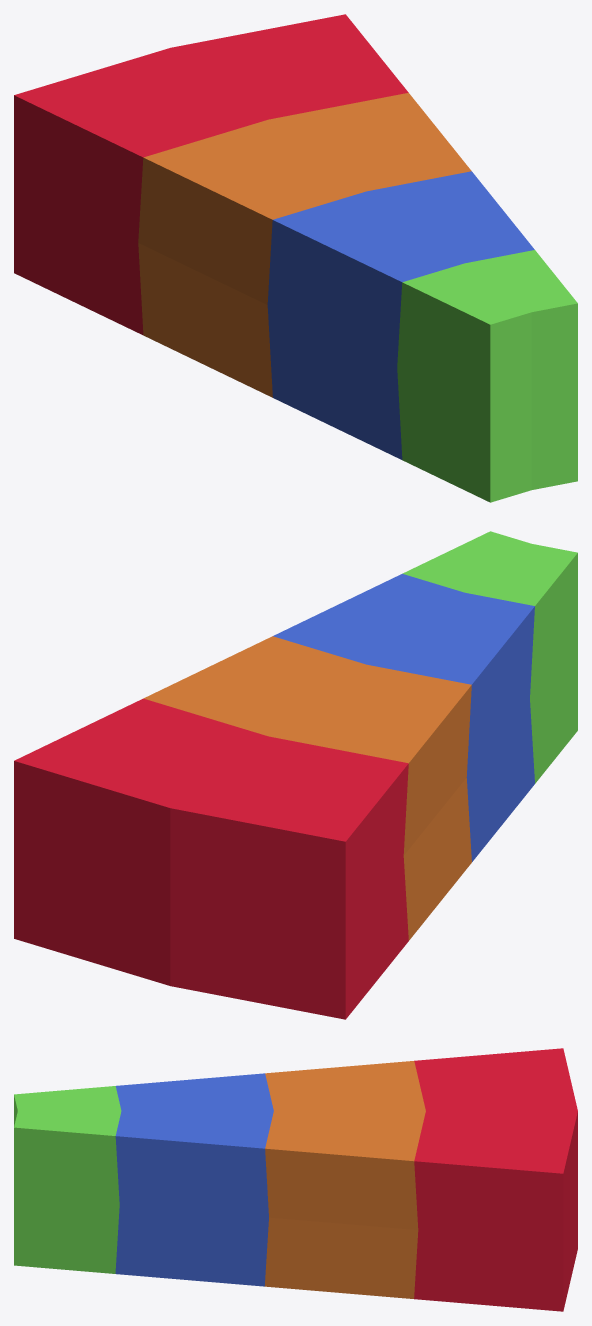
The model's file is sss.fbx.
The picture shows the model from 3 angles, top to bottom: view 1: azimuth 30°, elevation 25°; view 2: azimuth 150°, elevation 25°; view 3: azimuth 270°, elevation 25°; orthographic projection. The views are drawn at different scales.
Visible parts, largest first — view 1: Cylinder.002, Cylinder.003, Cylinder.004, Cylinder.005; view 2: Cylinder.002, Cylinder.003, Cylinder.004, Cylinder.005; view 3: Cylinder.002, Cylinder.003, Cylinder.004, Cylinder.005.
Boxes of the visible parts, box(x1,y1,x2,y2) form: Cylinder.002: box(14, 14, 408, 334); Cylinder.003: box(138, 92, 471, 397); Cylinder.004: box(267, 171, 534, 459); Cylinder.005: box(397, 250, 577, 502); Cylinder.002: box(14, 698, 408, 1019); Cylinder.003: box(143, 636, 471, 940); Cylinder.004: box(273, 573, 534, 861); Cylinder.005: box(402, 531, 577, 783); Cylinder.002: box(414, 1048, 577, 1311); Cylinder.003: box(264, 1061, 425, 1298); Cylinder.004: box(115, 1073, 273, 1286); Cylinder.005: box(14, 1086, 121, 1273).
Bounding box in the file's own units: 195 × 100 × 371.
